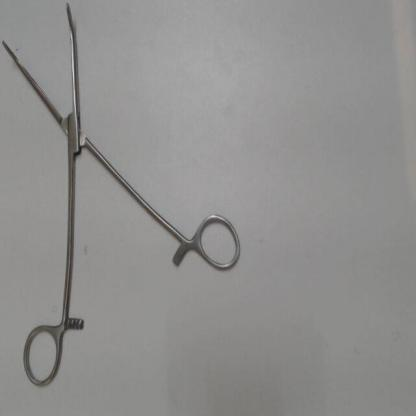Lahey Forceps: (0, 0, 250, 396)
